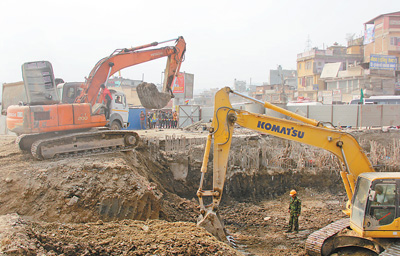excavator: (198, 76, 400, 256), (4, 33, 195, 168)
